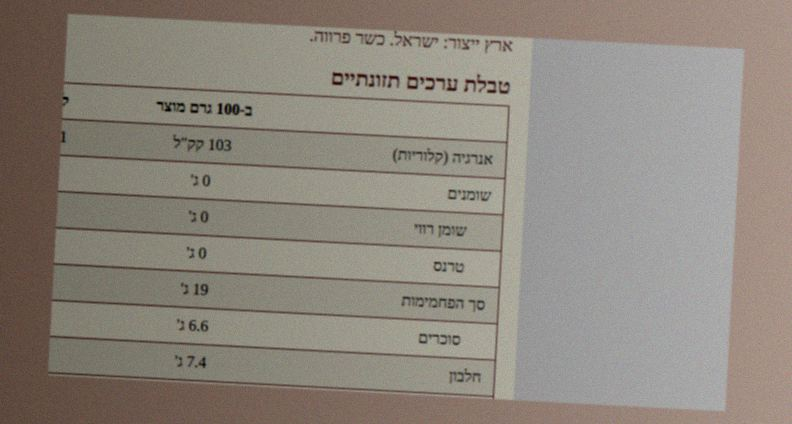carbs: (178, 278, 211, 300)
energy: (171, 132, 234, 156)
fat: (188, 169, 213, 191)
protein: (172, 350, 209, 373)
